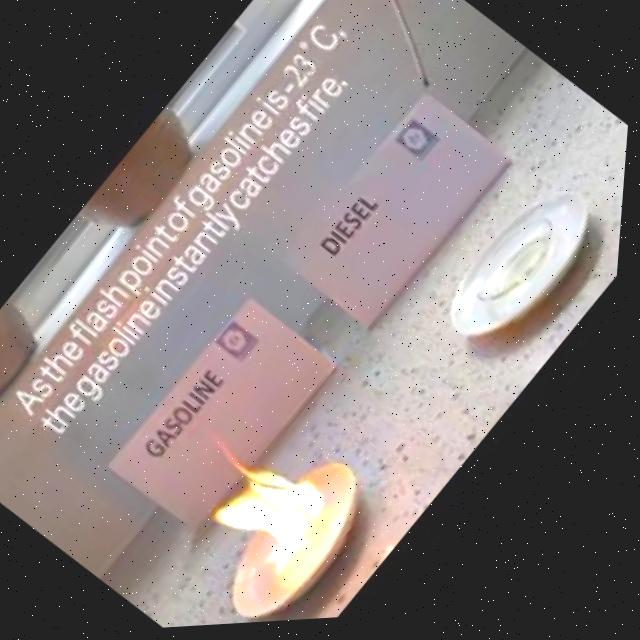Fire: (169, 414, 363, 596)
